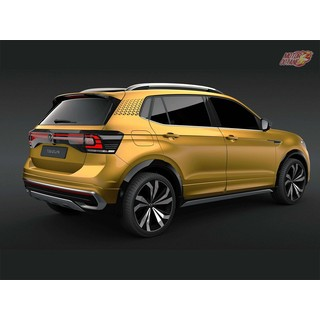car: (22, 81, 311, 238)
